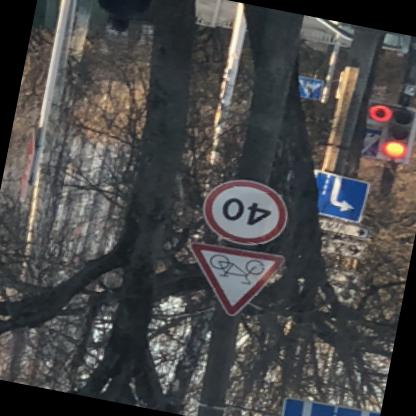speedlimit: (200, 174, 295, 252)
trafficlight: (361, 102, 415, 162)
